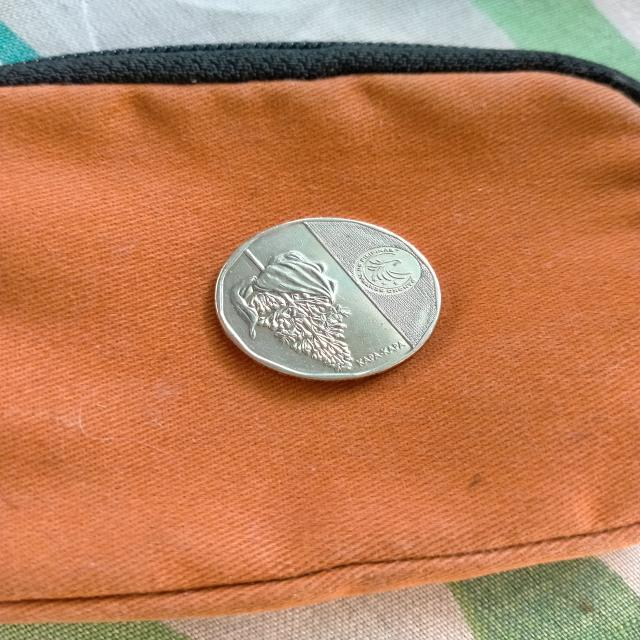10_New_Back: (234, 248, 368, 382)
